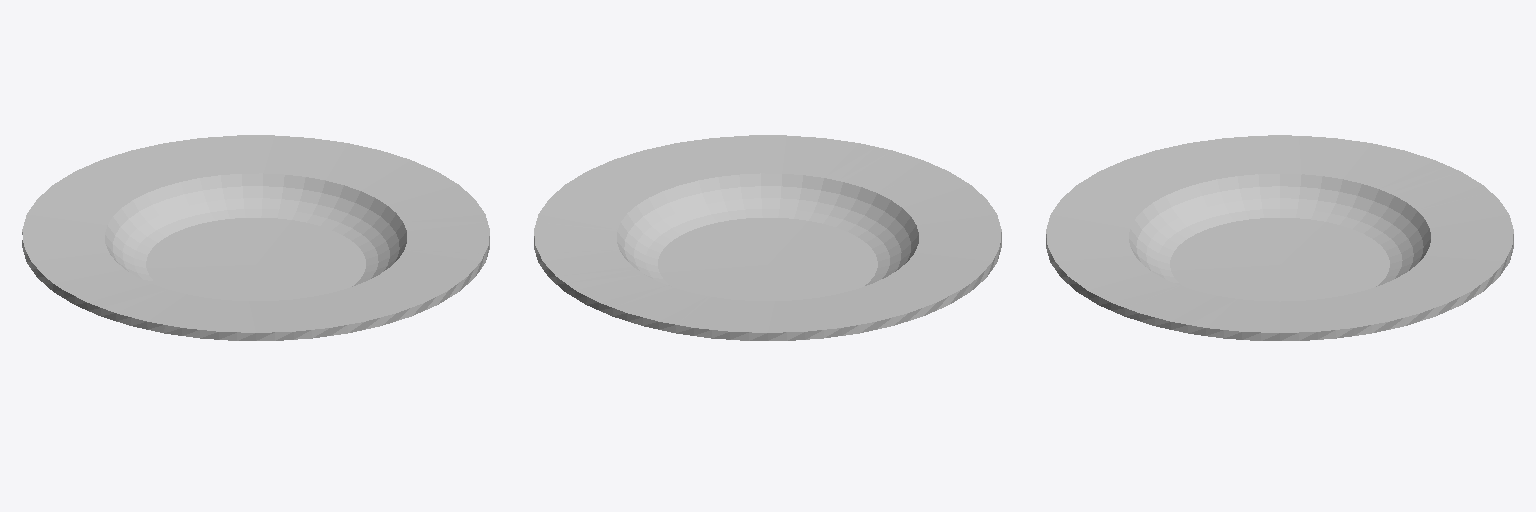
The model's file is plate_8p5in.obj.
3 views of the same model, side by side, from view 1: azimuth 30°, elevation 25°; view 2: azimuth 150°, elevation 25°; view 3: azimuth 270°, elevation 25° (orthographic).
Size of the model in its own units: 216 by 22.24 by 216.